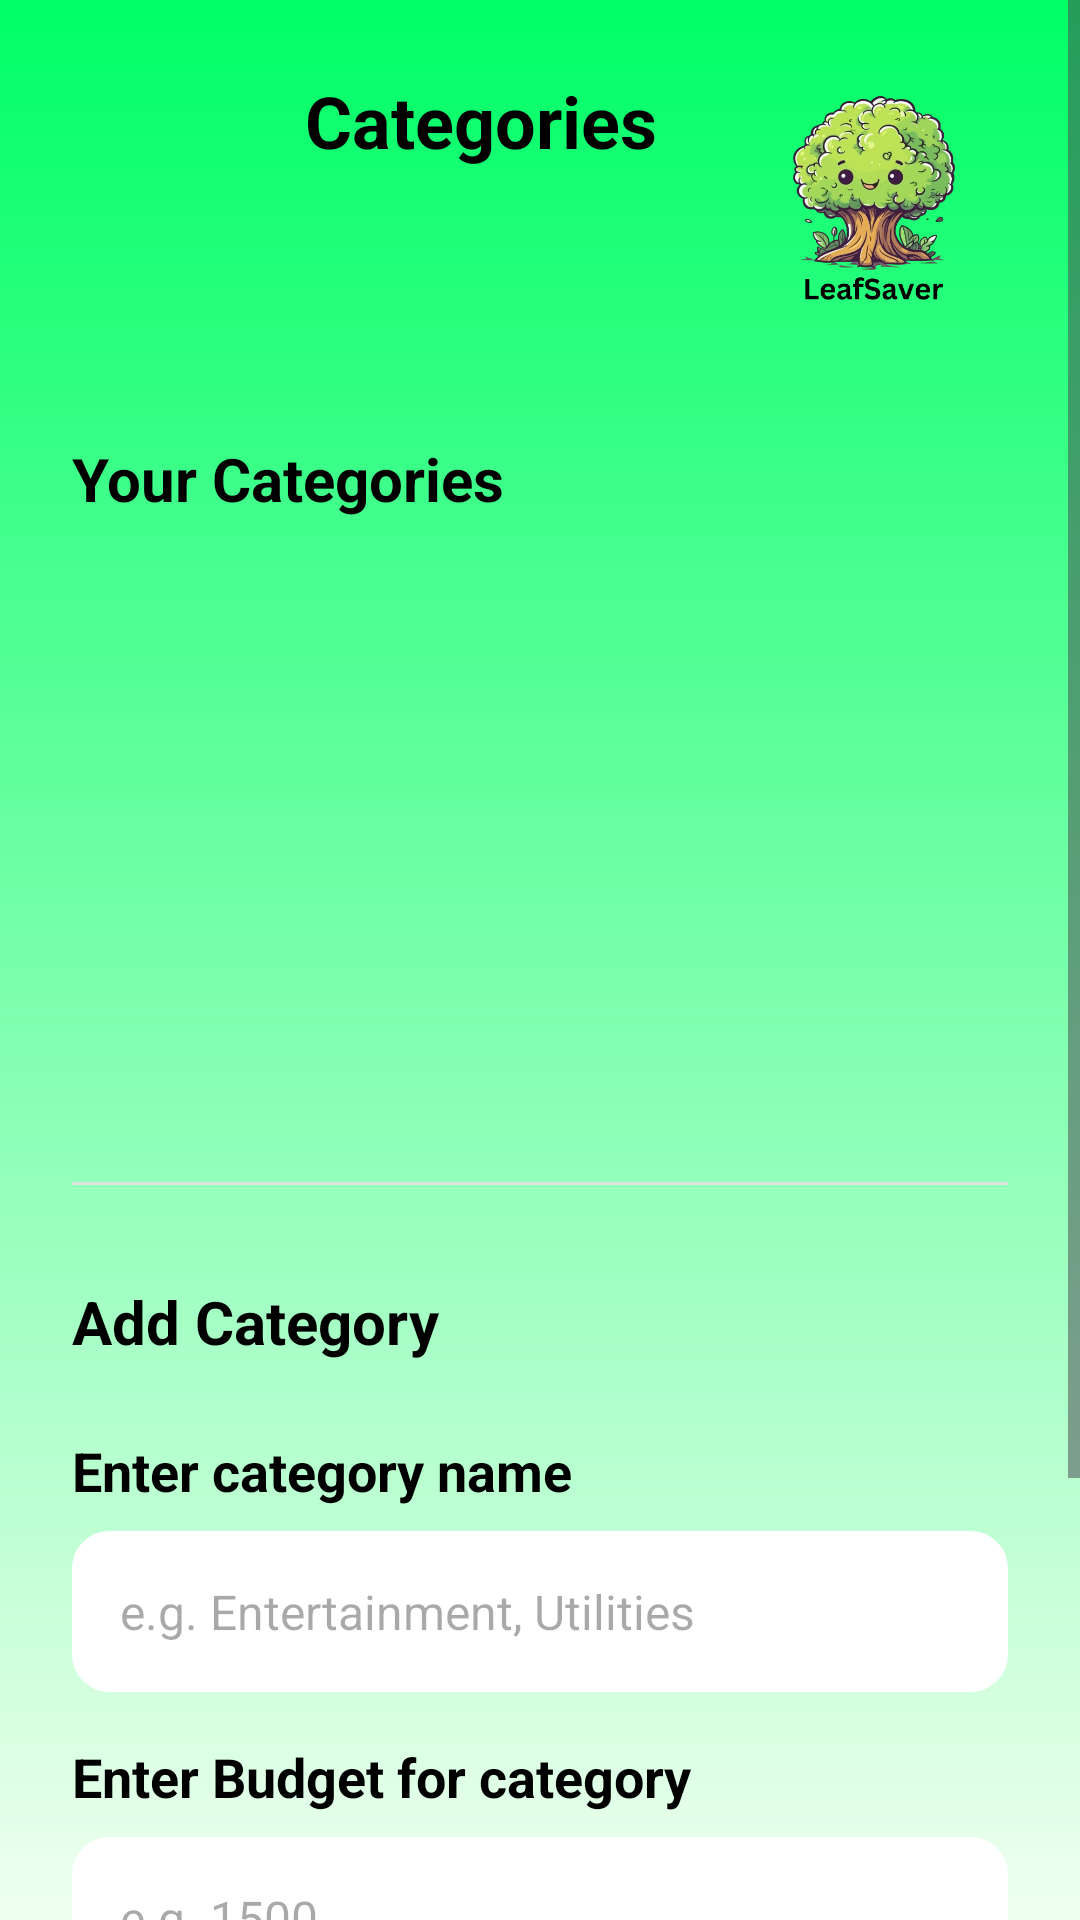

Locate icon controls on the screen. Image size 1080x1920, boxes as (x1, y1, x2, y2).
Tree Icon: (738, 96, 1008, 342)
